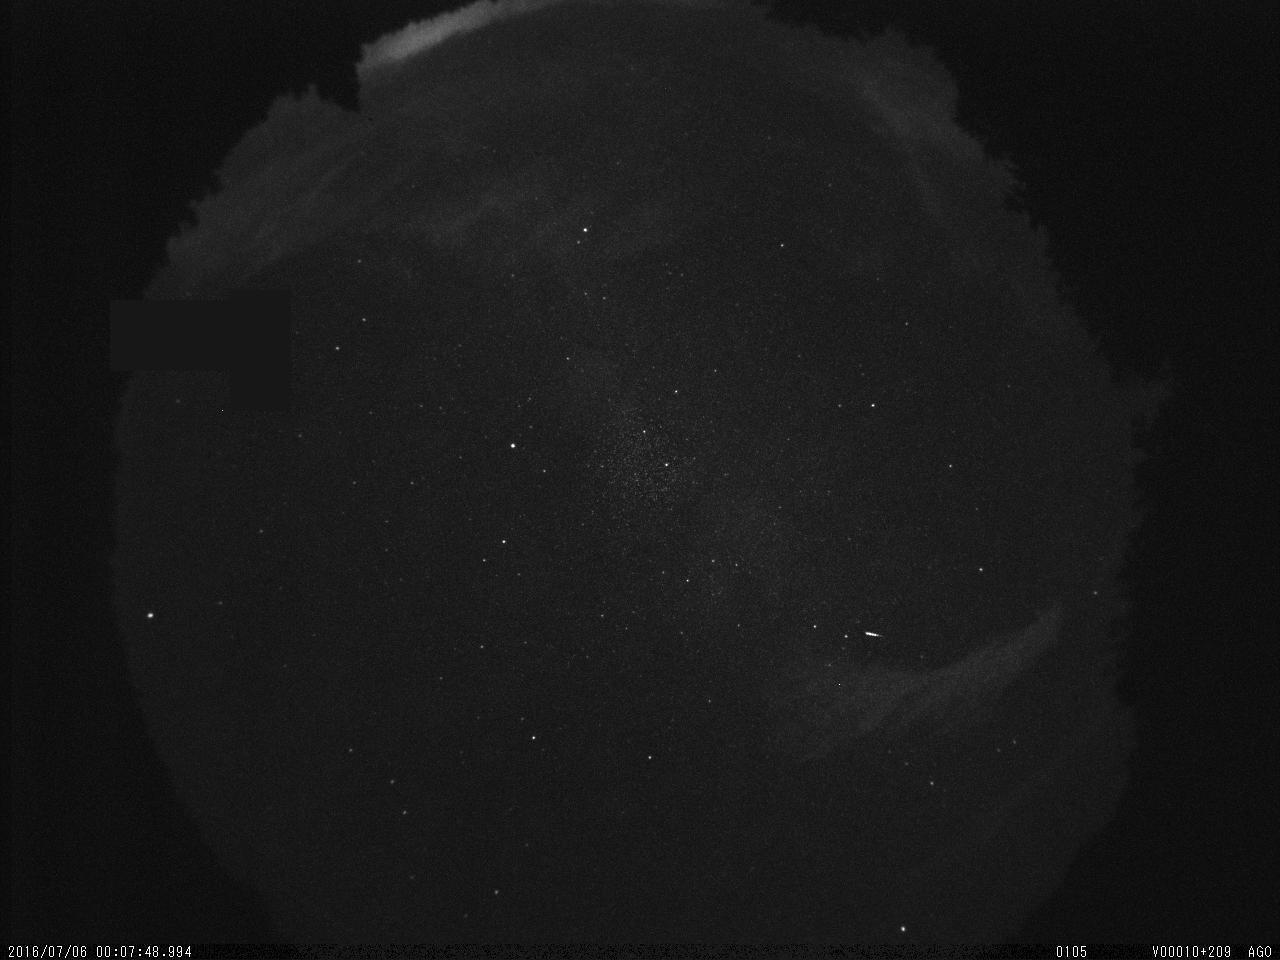Meteor: (862, 624, 886, 646)
